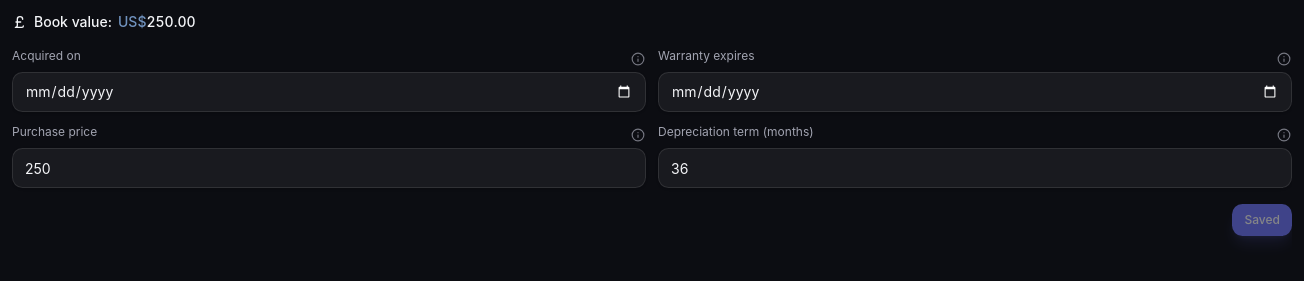
Test: AssetEditor › refuses a zero depreciation term instead of switching depreciation off (issue #675)
Replace the text in the number field with test id "asset-depreciation-months" with "0" at {"x": 975, "y": 168}, box [658,148,1292,188]
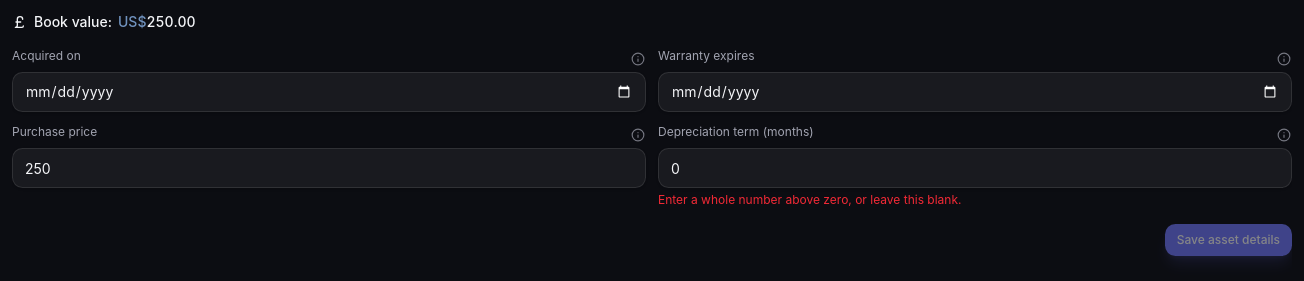
Expected: the button with test id "save-asset" is disabled, [1165,224,1292,256]
Expected: the message shows "above zero", [658,192,962,207]
